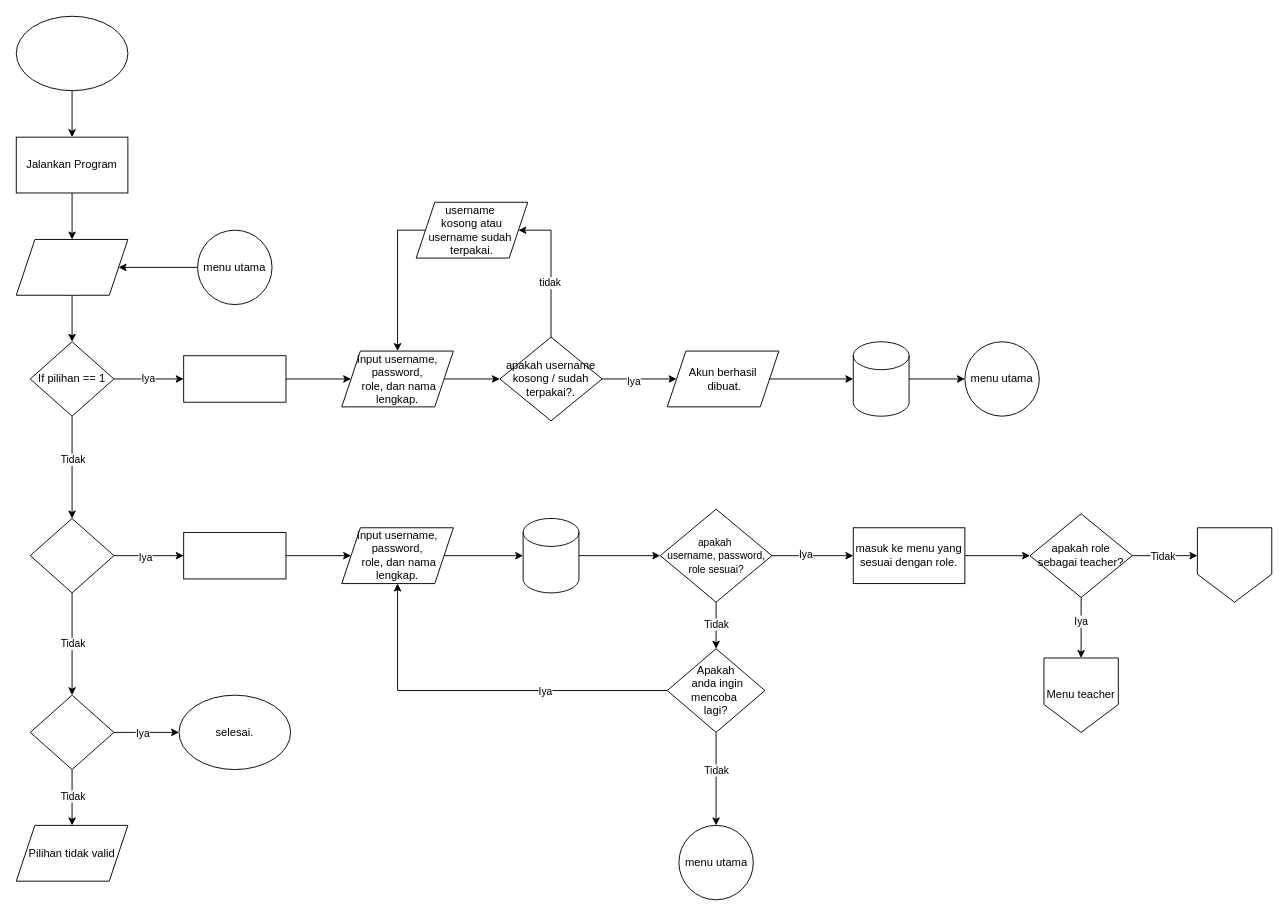
Some shapes in this 1288 by 916 pixel diagram are drawn without their labels. The centre of each missing label's shape, as x and y in pixels:
"If pilihan == 2" goes at (71,555).
"If pilihan == 3" goes at (71,732).
"Load Data users" goes at (550,555).
"Masuk ke Login." goes at (234,555).
"Masuk ke Register." goes at (234,378).
"Menu user" goes at (1234,564).
"Menu Utama 1. Register 2. Login 3. Keluar" goes at (71,267).
"mulai" goes at (71,53).
"Save data users" goes at (880,378).
